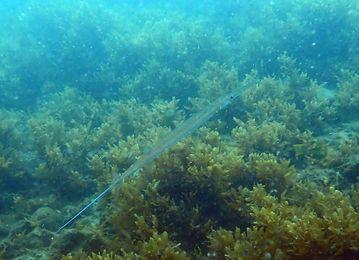Fistularia commersonii: (61, 81, 251, 228)
